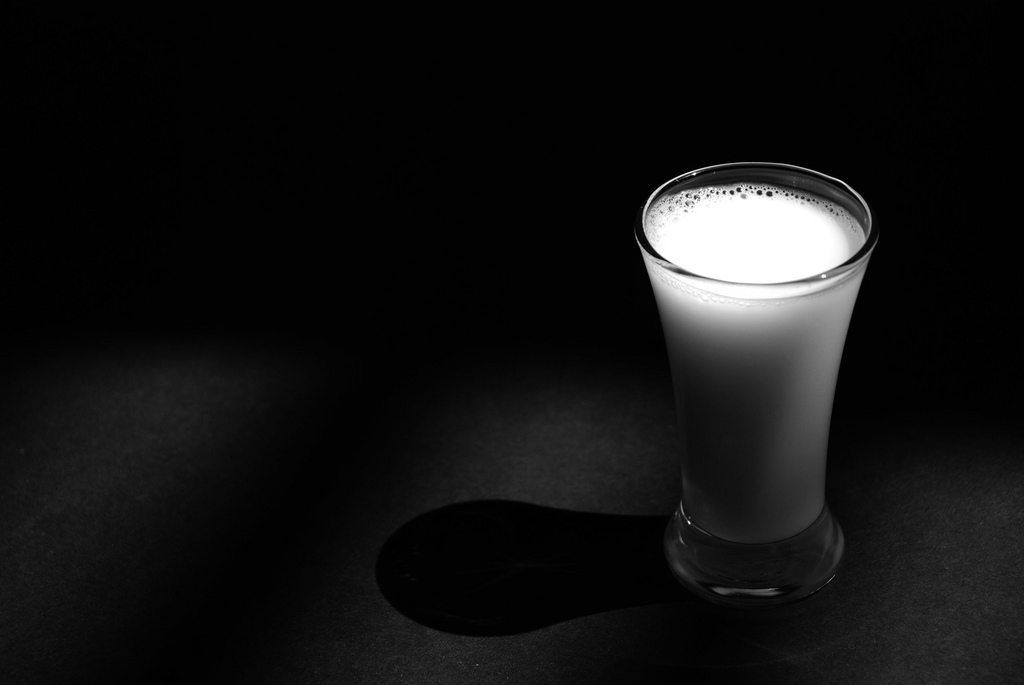glass of milk: (629, 172, 881, 624)
